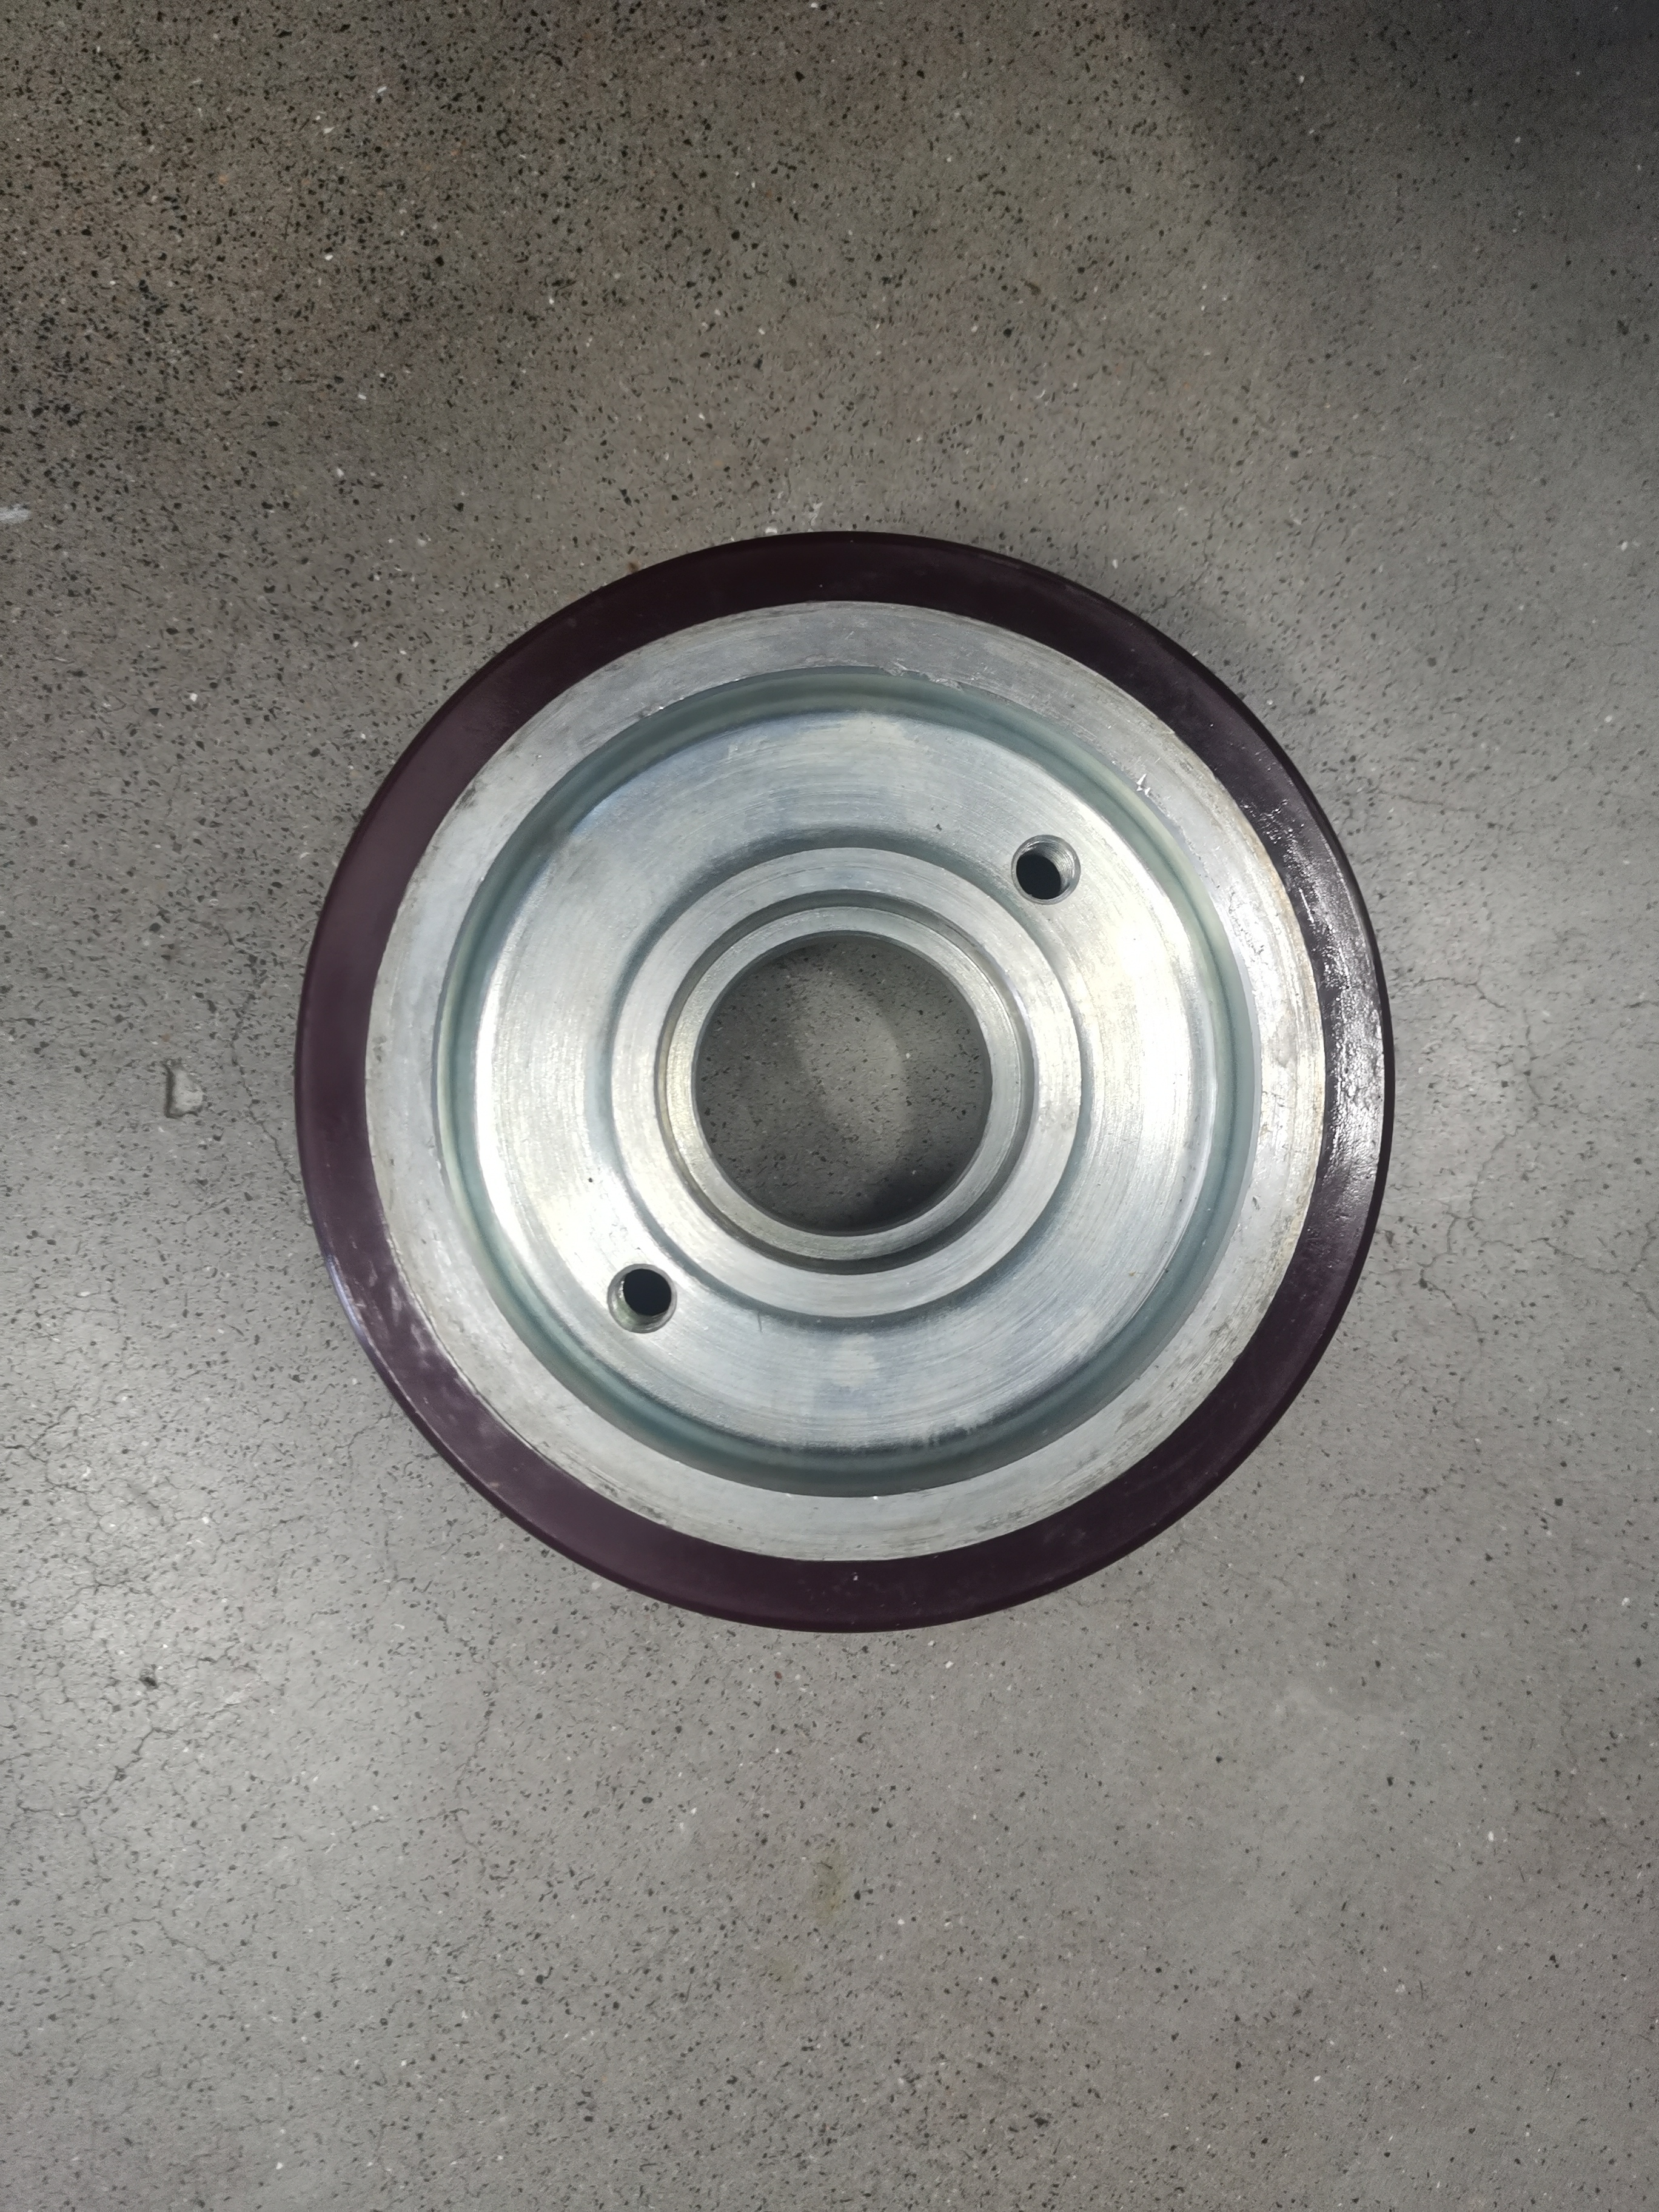good_wheel: (270, 488, 1371, 1710)
